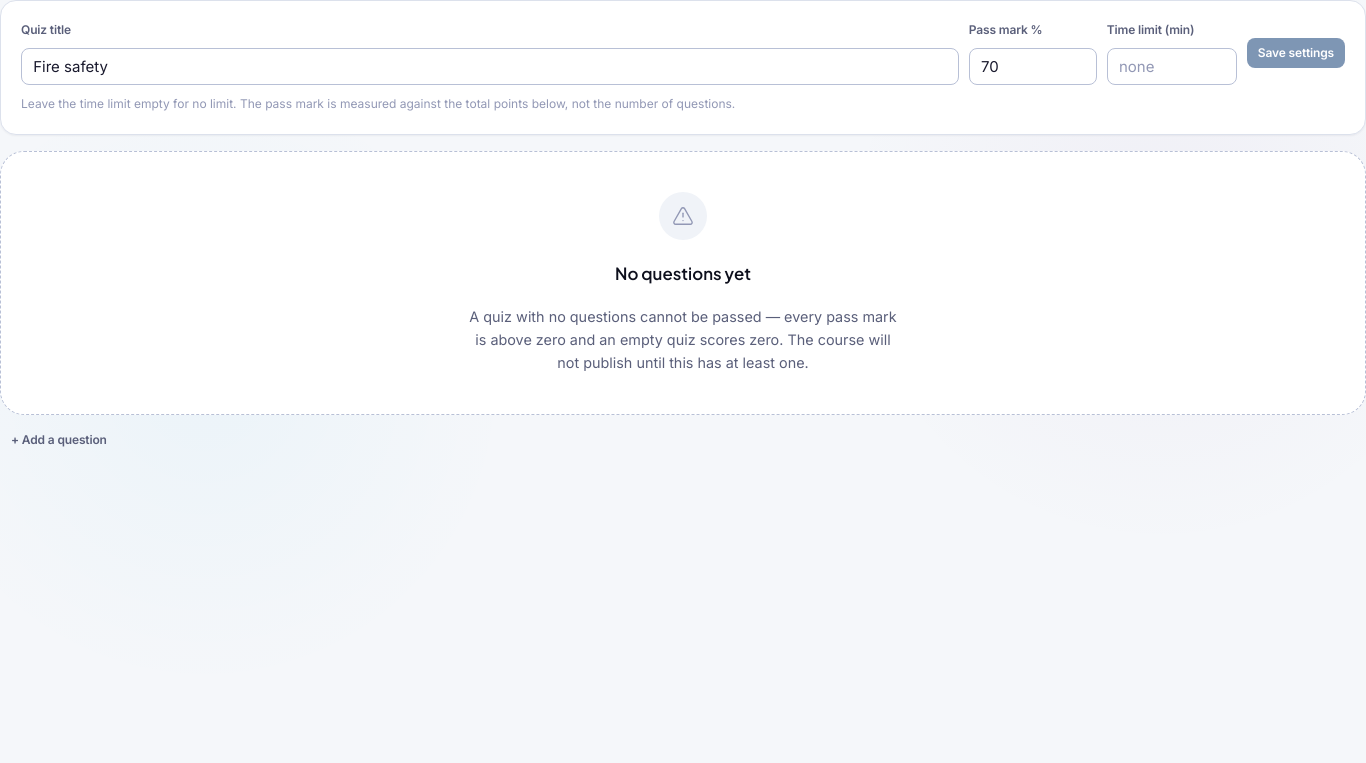
Test: writing a question › refuses two identical options before the request is made
Step 1. Click the button "+ Add a question" → (59, 440), box [0,425,118,455]
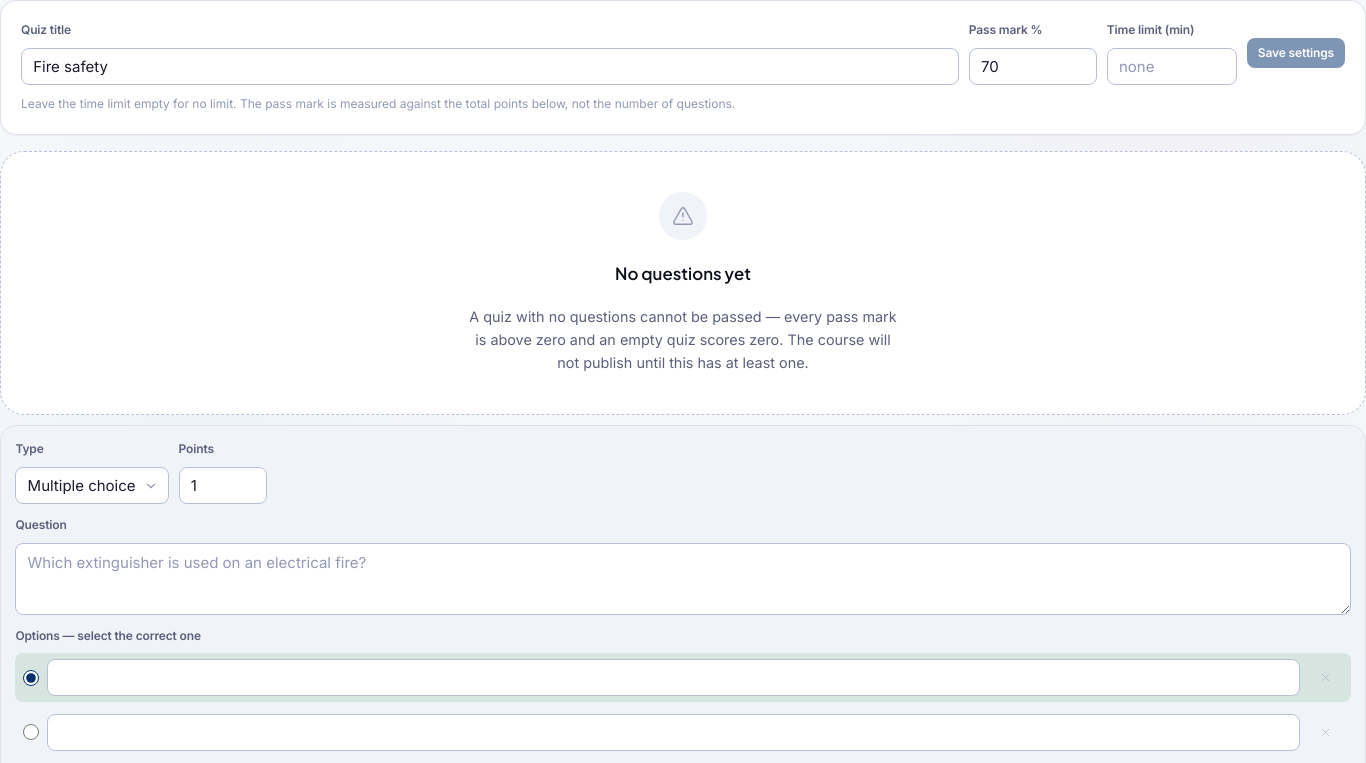
Step 2. Type "Q" into the text box labelled "Question" → (683, 579), box [15,543,1351,615]
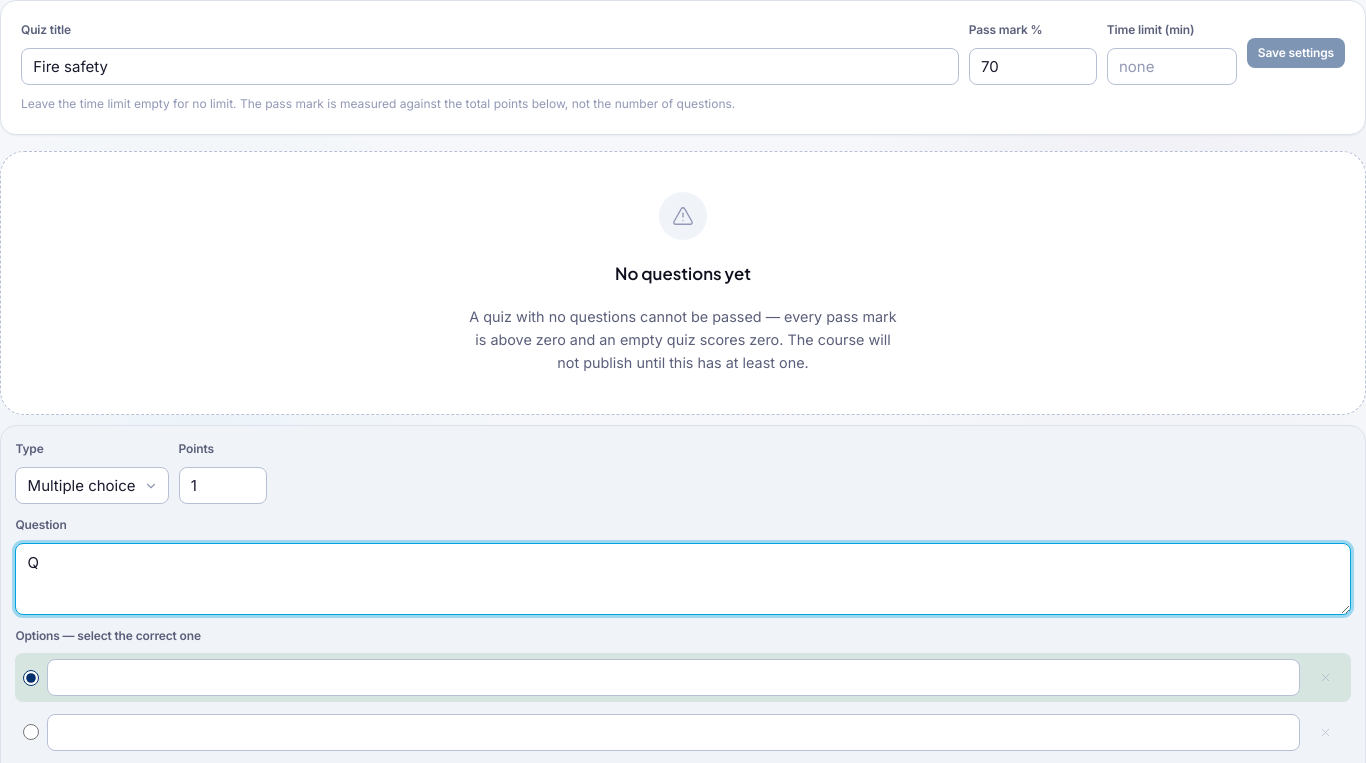
Step 3. Type "Same" into the 1st field named "Option 1" → (673, 678), box [47,659,1300,696]
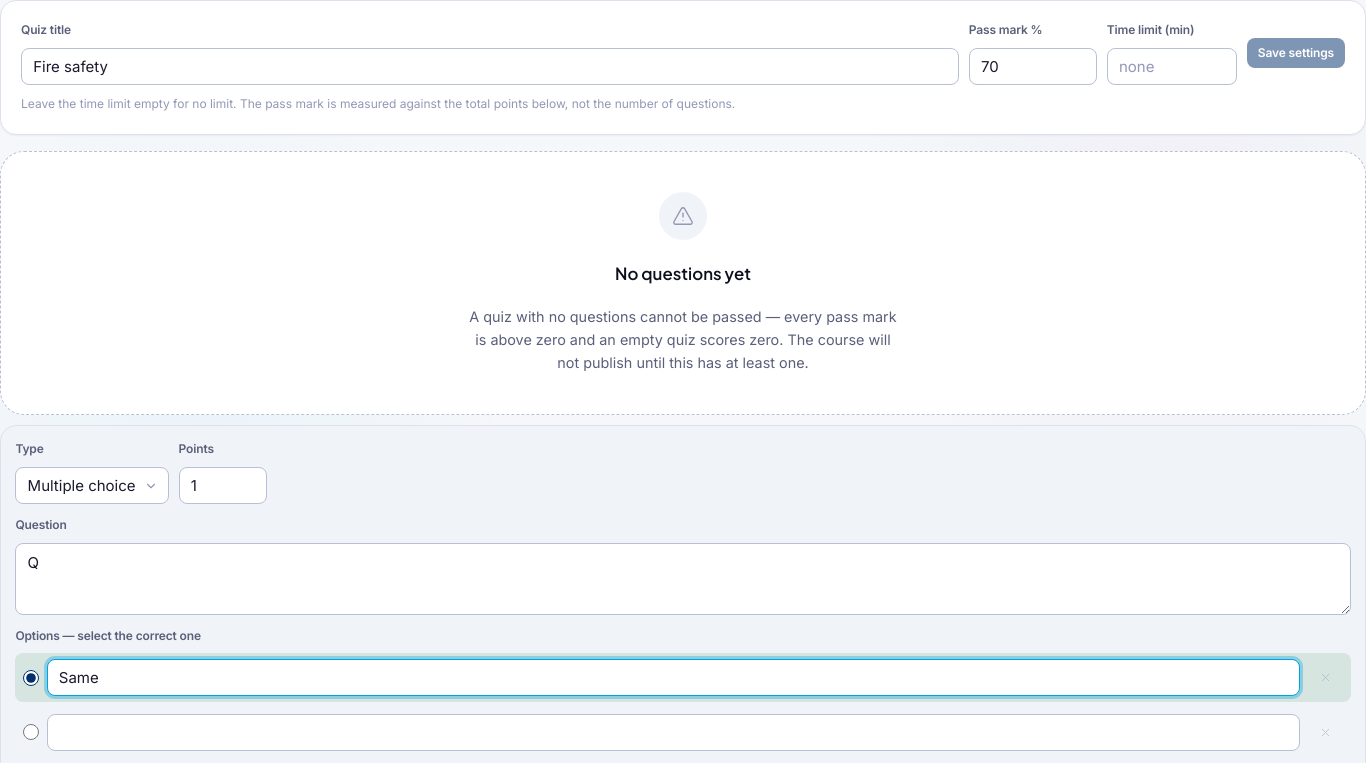
Step 4. Type " same " into the 2nd field named "Option 2" → (673, 732), box [47,714,1300,751]
(page scrolled)
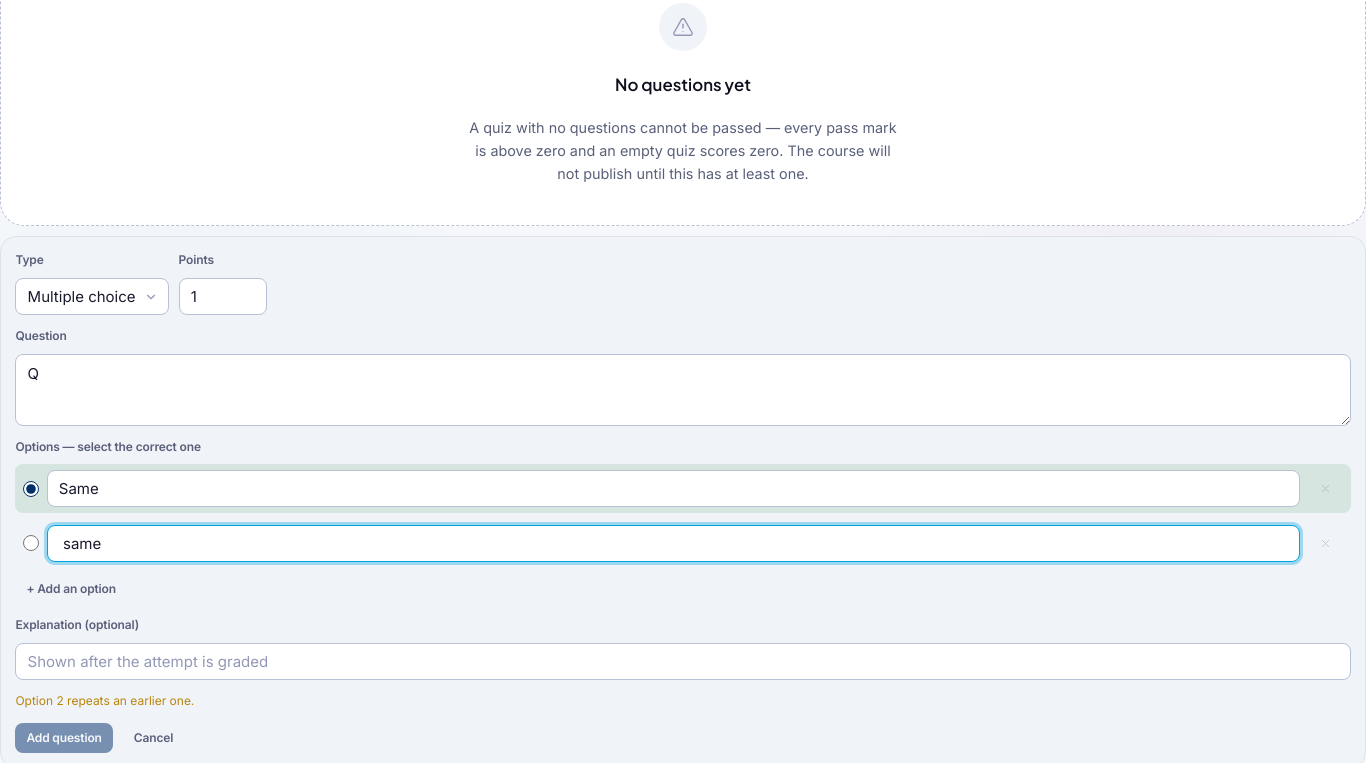
Now the button "Add question" is disabled, box [15,722,113,752]
Now the text "Option 2 repeats an earlier one." is shown, box [15,693,194,708]
